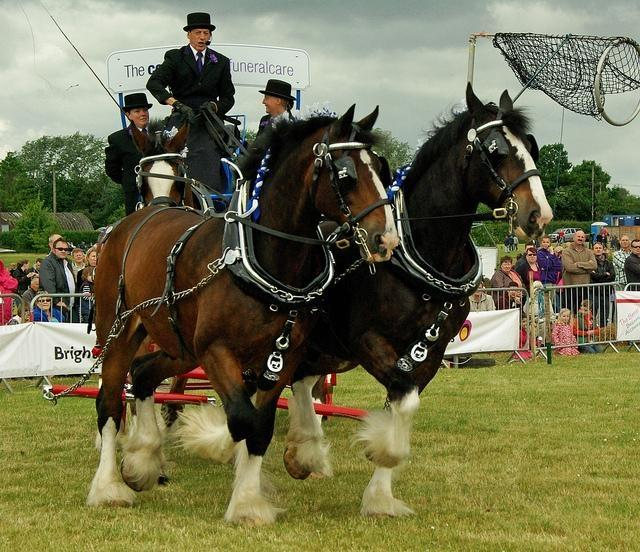car: (548, 227, 583, 242)
